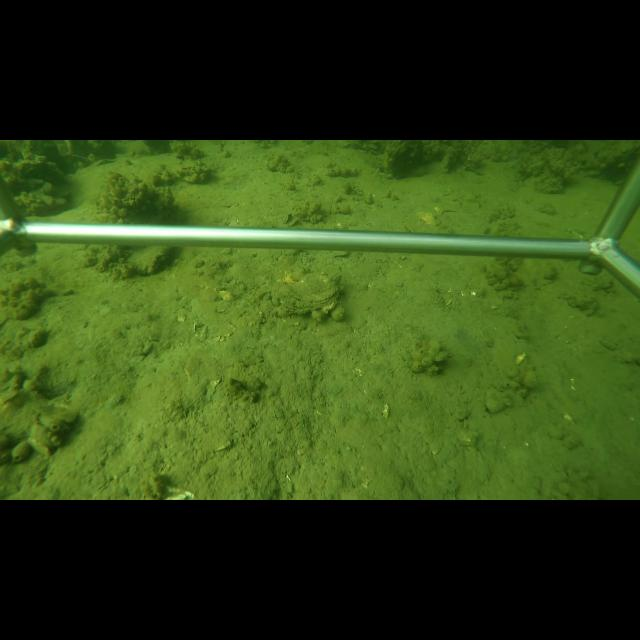Oyster-Closed: (275, 264, 343, 314), (120, 246, 177, 275), (381, 142, 420, 180)
